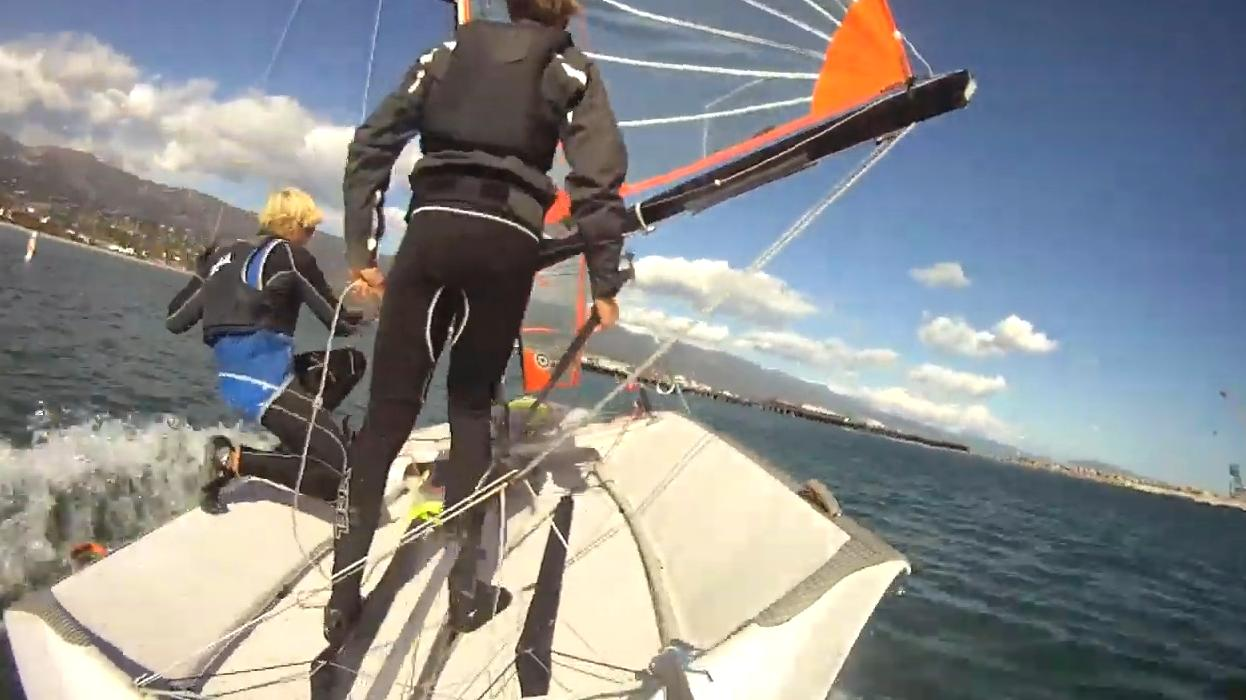boat: (3, 255, 912, 700), (580, 0, 980, 230)
land: (0, 143, 261, 277), (583, 330, 897, 436), (303, 233, 349, 295)
person: (324, 0, 628, 645)
sea: (647, 391, 1246, 700), (0, 226, 266, 700)
sky: (621, 0, 1246, 497), (0, 0, 452, 210)
